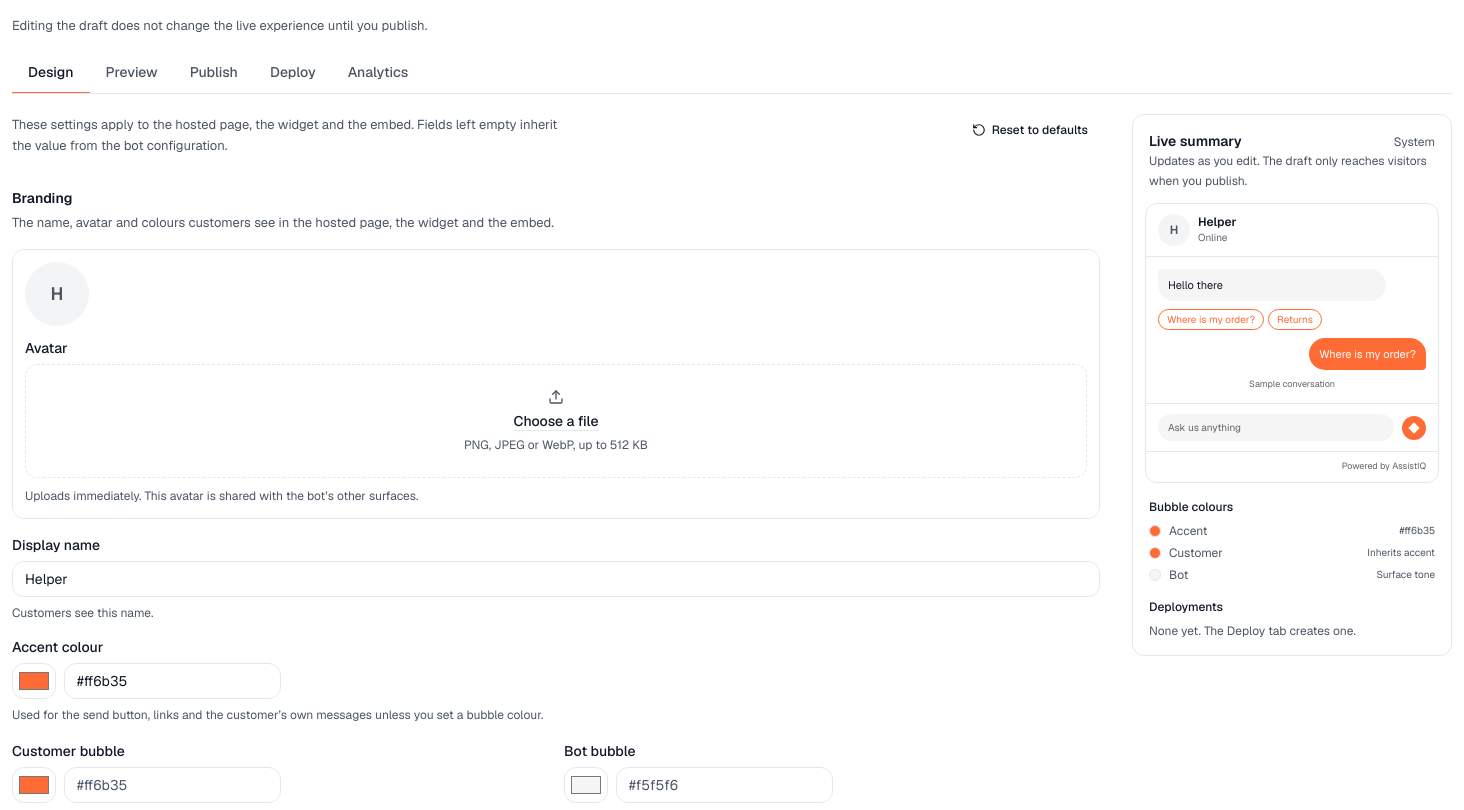
Scenario: Experience Preview tab › sends a test message through the preview endpoint and renders the answer
Click the tab "Preview": (132, 72) 90,52 -> 174,94
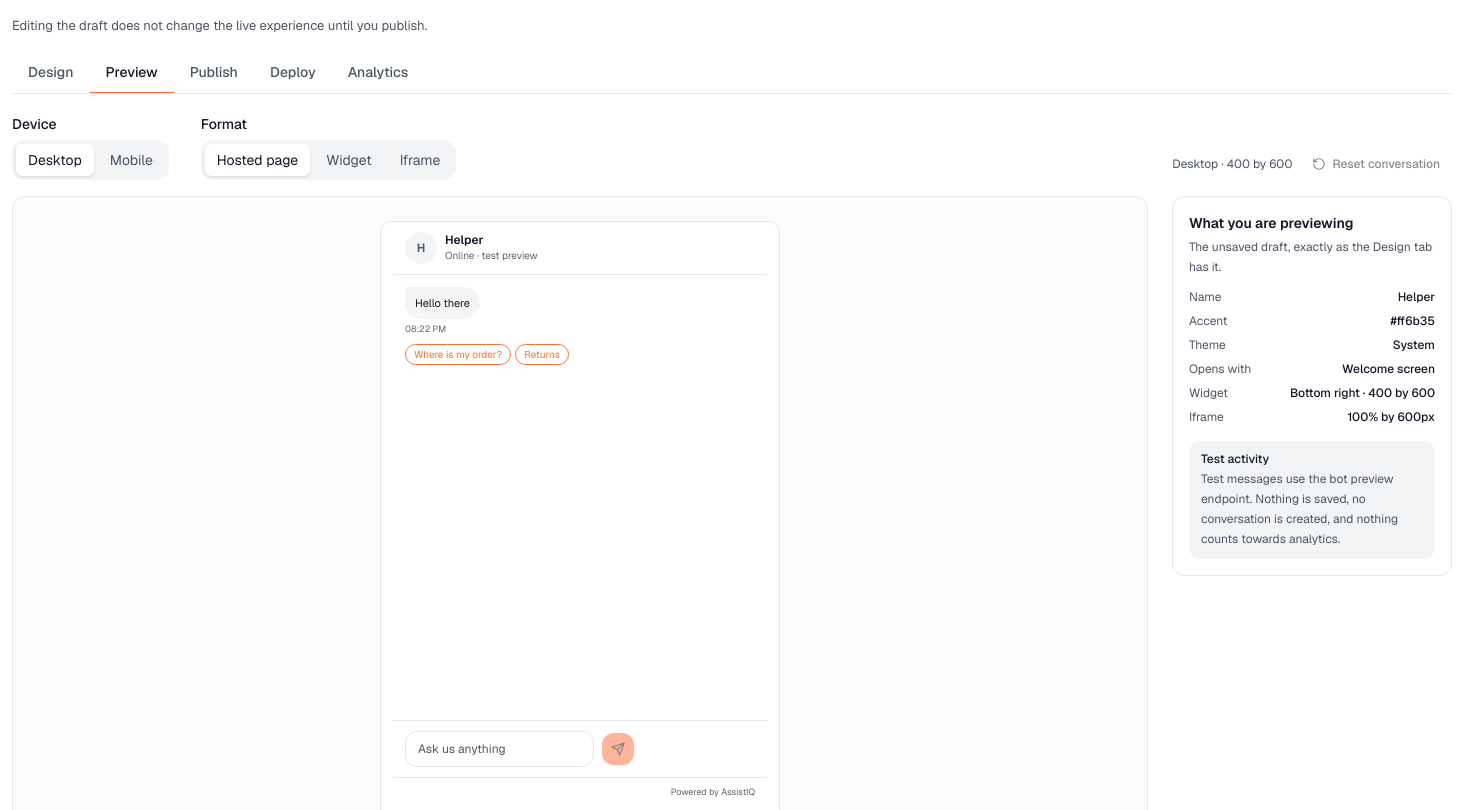
In the field named "Test message": (500, 749) 405,731 -> 594,767, type "How do refunds work?"
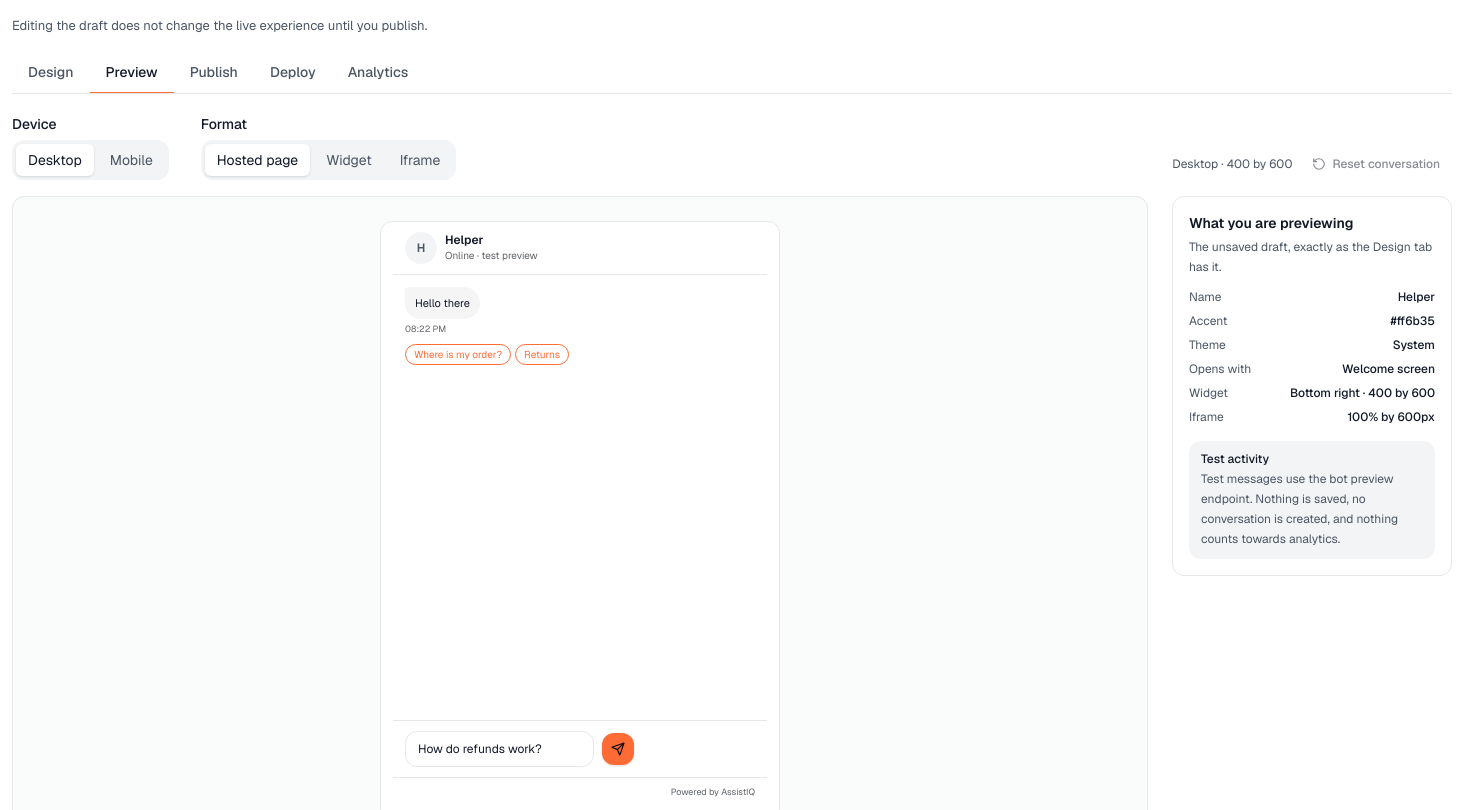
Click the button named "Send test message": (618, 749) 602,733 -> 634,765
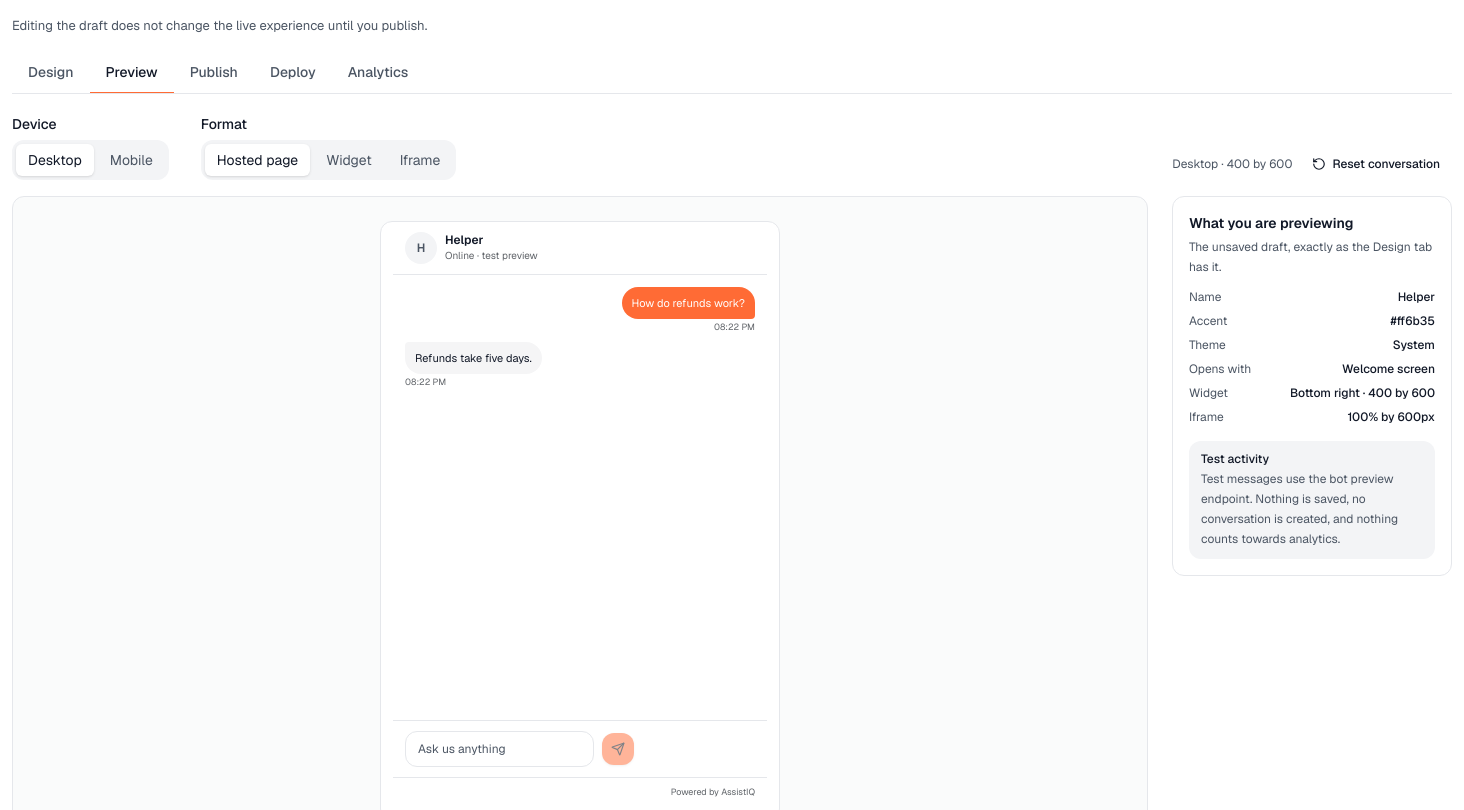
Expected: the text "Refunds take five days." is shown, 405,342 -> 542,374
Expected: the text "How do refunds work?" is shown, 622,286 -> 755,318
